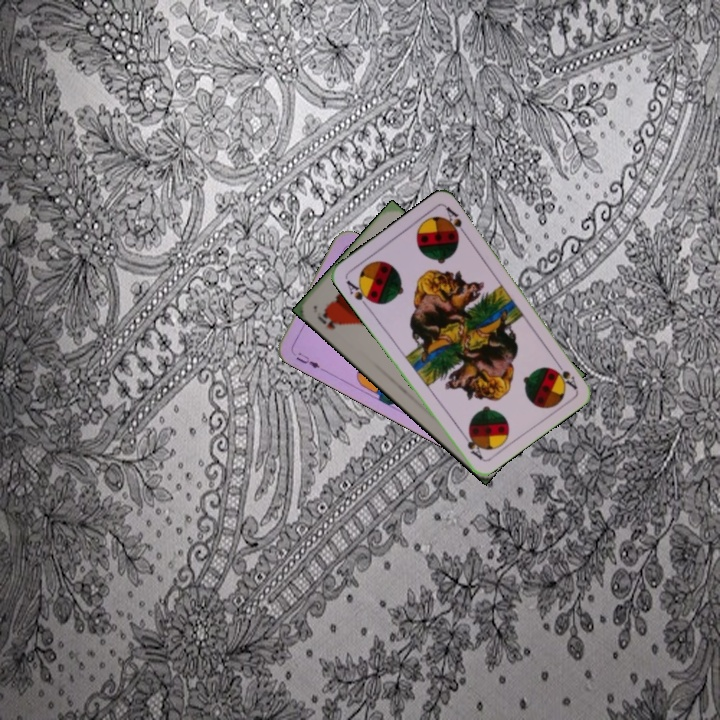EU: (289, 348, 322, 371)
HO: (313, 306, 338, 332)
SA: (342, 276, 376, 310), (551, 356, 579, 392)
